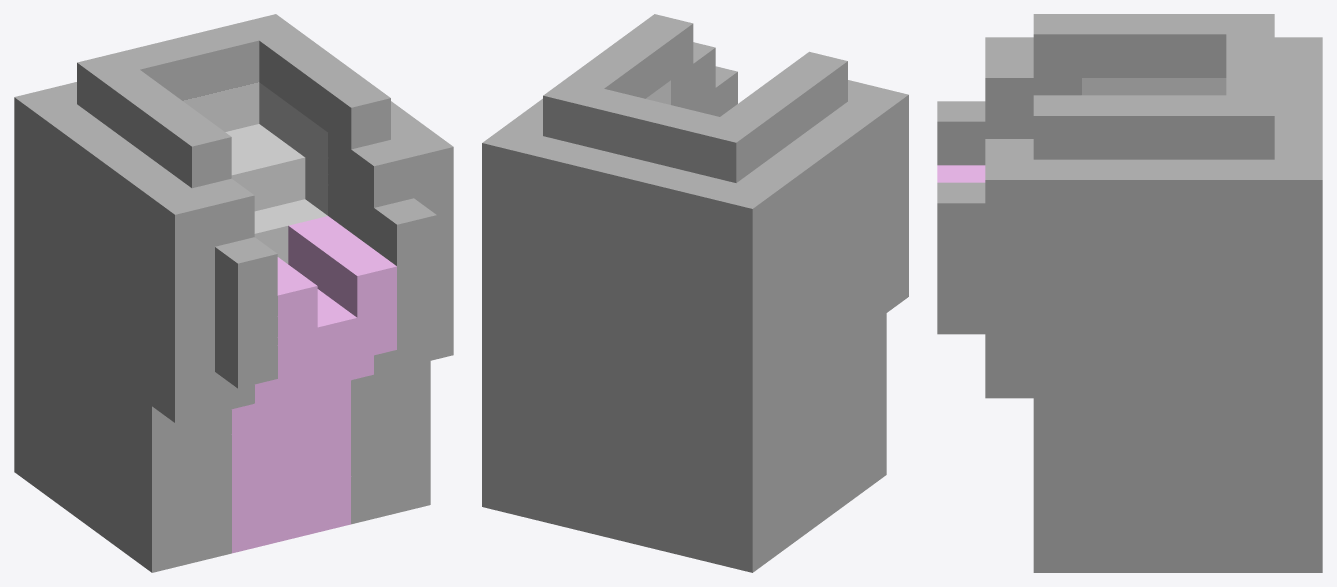
Rendered from Matrix_26.fbx.
3 views of the same model, side by side, from view 1: azimuth 30°, elevation 25°; view 2: azimuth 150°, elevation 25°; view 3: azimuth 270°, elevation 25° (orthographic). The views are drawn at different scales.
Visible parts, largest first — view 1: Matrix_26; view 2: Matrix_26; view 3: Matrix_26.
Boxes of the visible parts, bbox=[...] form: Matrix_26: bbox=[14, 14, 453, 572]; Matrix_26: bbox=[482, 14, 908, 572]; Matrix_26: bbox=[937, 14, 1322, 572].
Size of the model in its own units: 7 by 10 by 8.
1 material, 1 textured.
